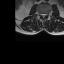CCS_normal: (42, 12, 44, 20)
LFS_normal: (46, 11, 48, 17)
LLS_normal: (44, 11, 46, 17)
RFS_normal: (39, 11, 41, 16)
RLS_normal: (41, 12, 42, 17)
